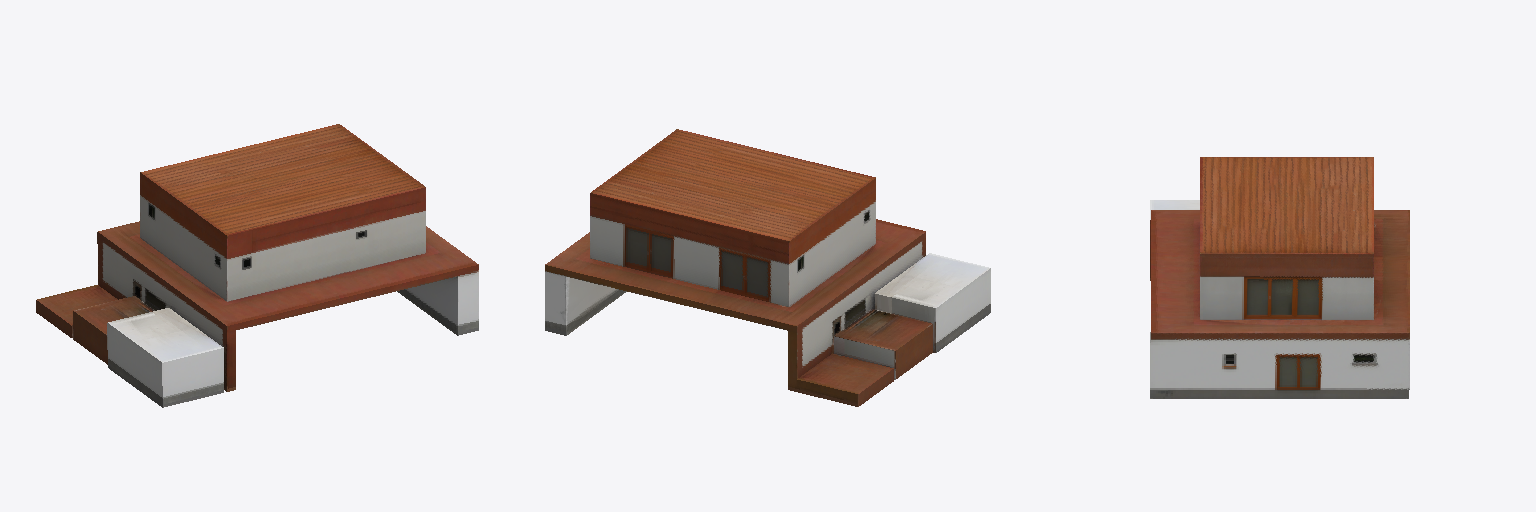
The picture shows the model from 3 angles: view 1: azimuth 30°, elevation 25°; view 2: azimuth 150°, elevation 25°; view 3: azimuth 270°, elevation 25°; orthographic projection.
Visible parts, largest first — view 1: model; view 2: model; view 3: model.
Part boxes in pixels (left/top/right/bottom): model: left=36, top=124, right=478, bottom=407; model: left=545, top=129, right=990, bottom=406; model: left=1150, top=157, right=1409, bottom=398.
Size of the model in its own units: 2 by 0.7971 by 1.42.
1 materials, 1 textured.